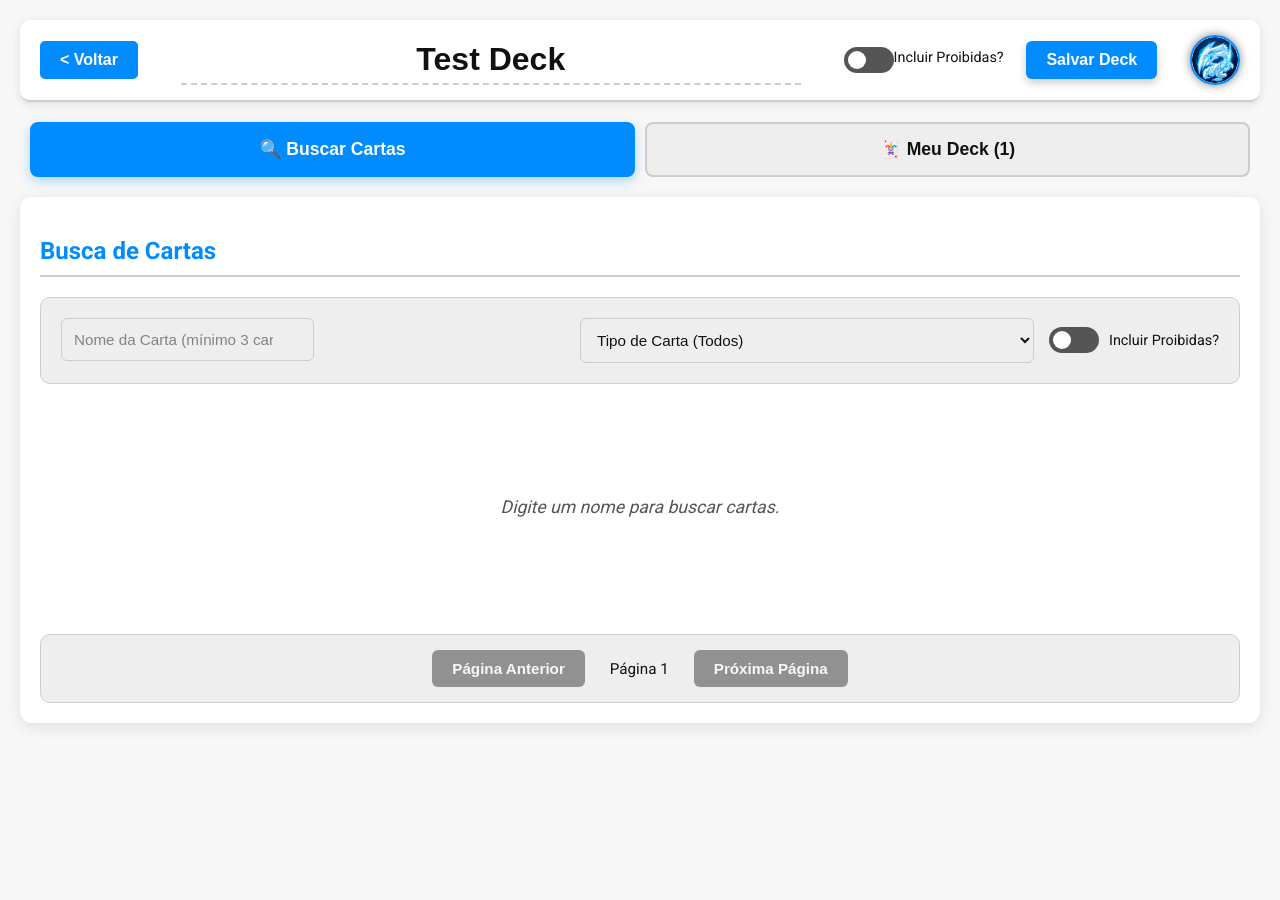
it: EditDeckPage Component › 12. deve permitir remover carta do deck
Expected: the field showing "Test Deck" is shown, [181,36,801,84]
Click the button "🃏 Meu Deck (1)".
click(948, 150)  # box [645,122,1250,177]
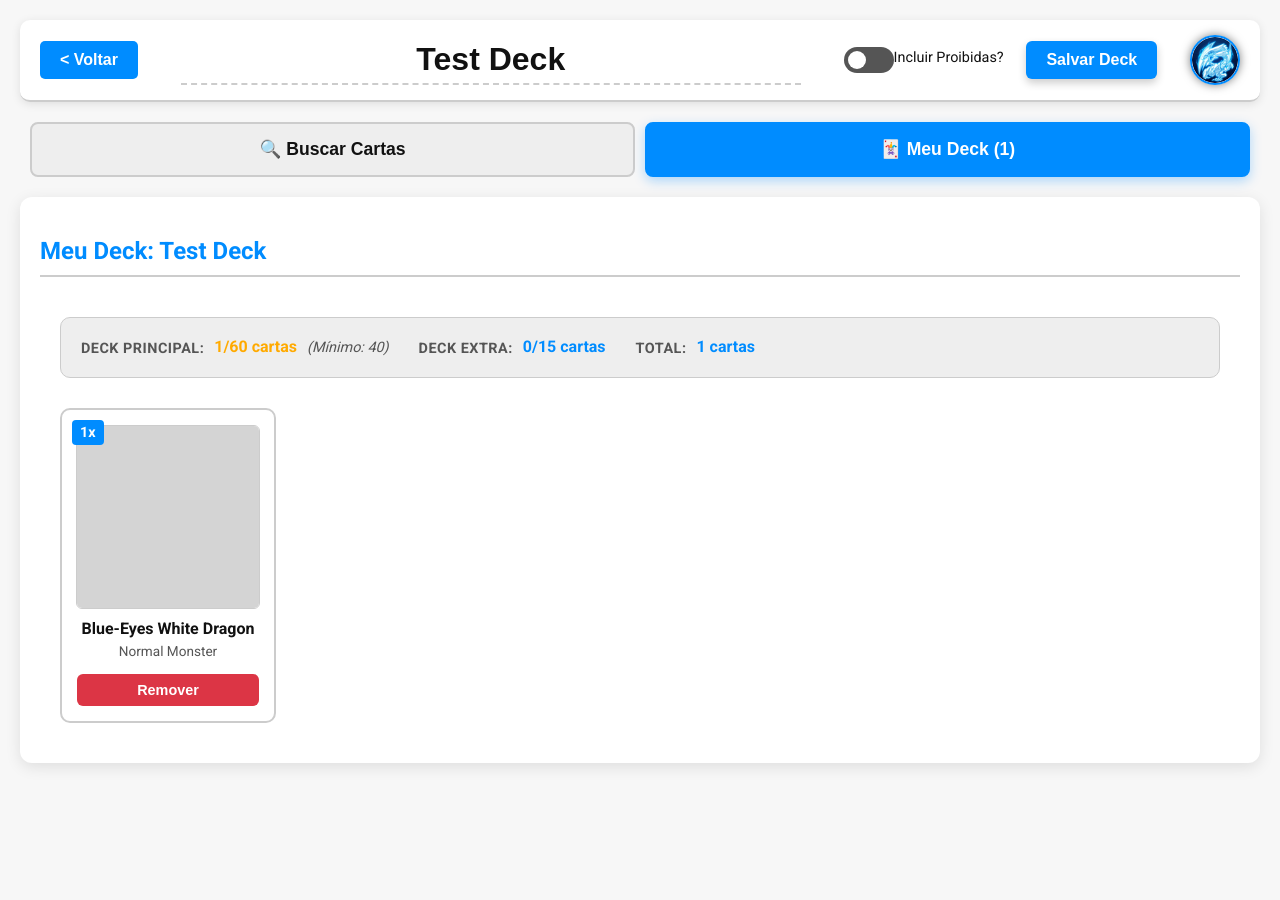
Expected: the text "Blue-Eyes White Dragon" is shown, [77,619,259,638]
Click the button with class "remove-deck-card-button".
click(168, 690)  # box [77,674,259,706]
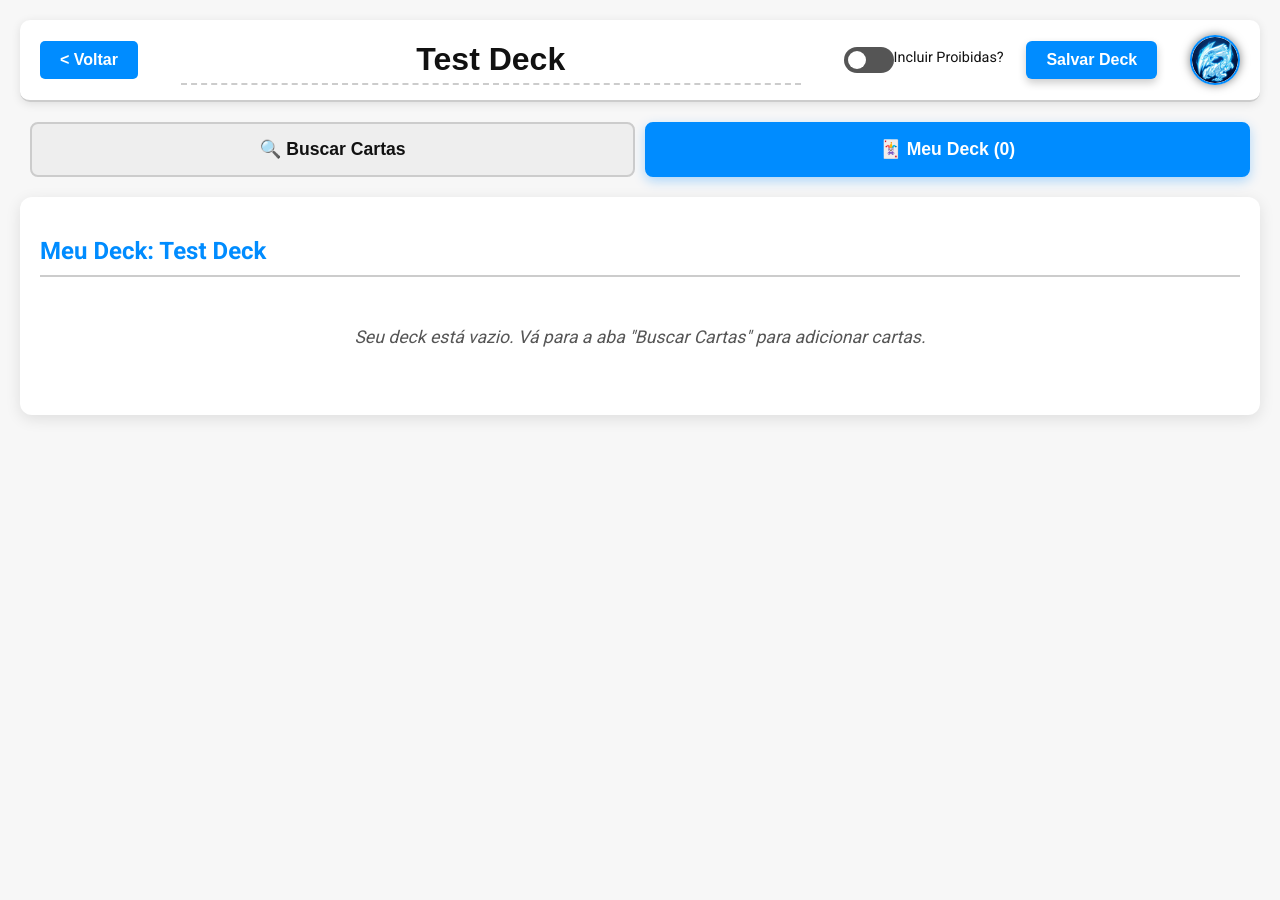
Expected: the text "Blue-Eyes White Dragon" is gone
